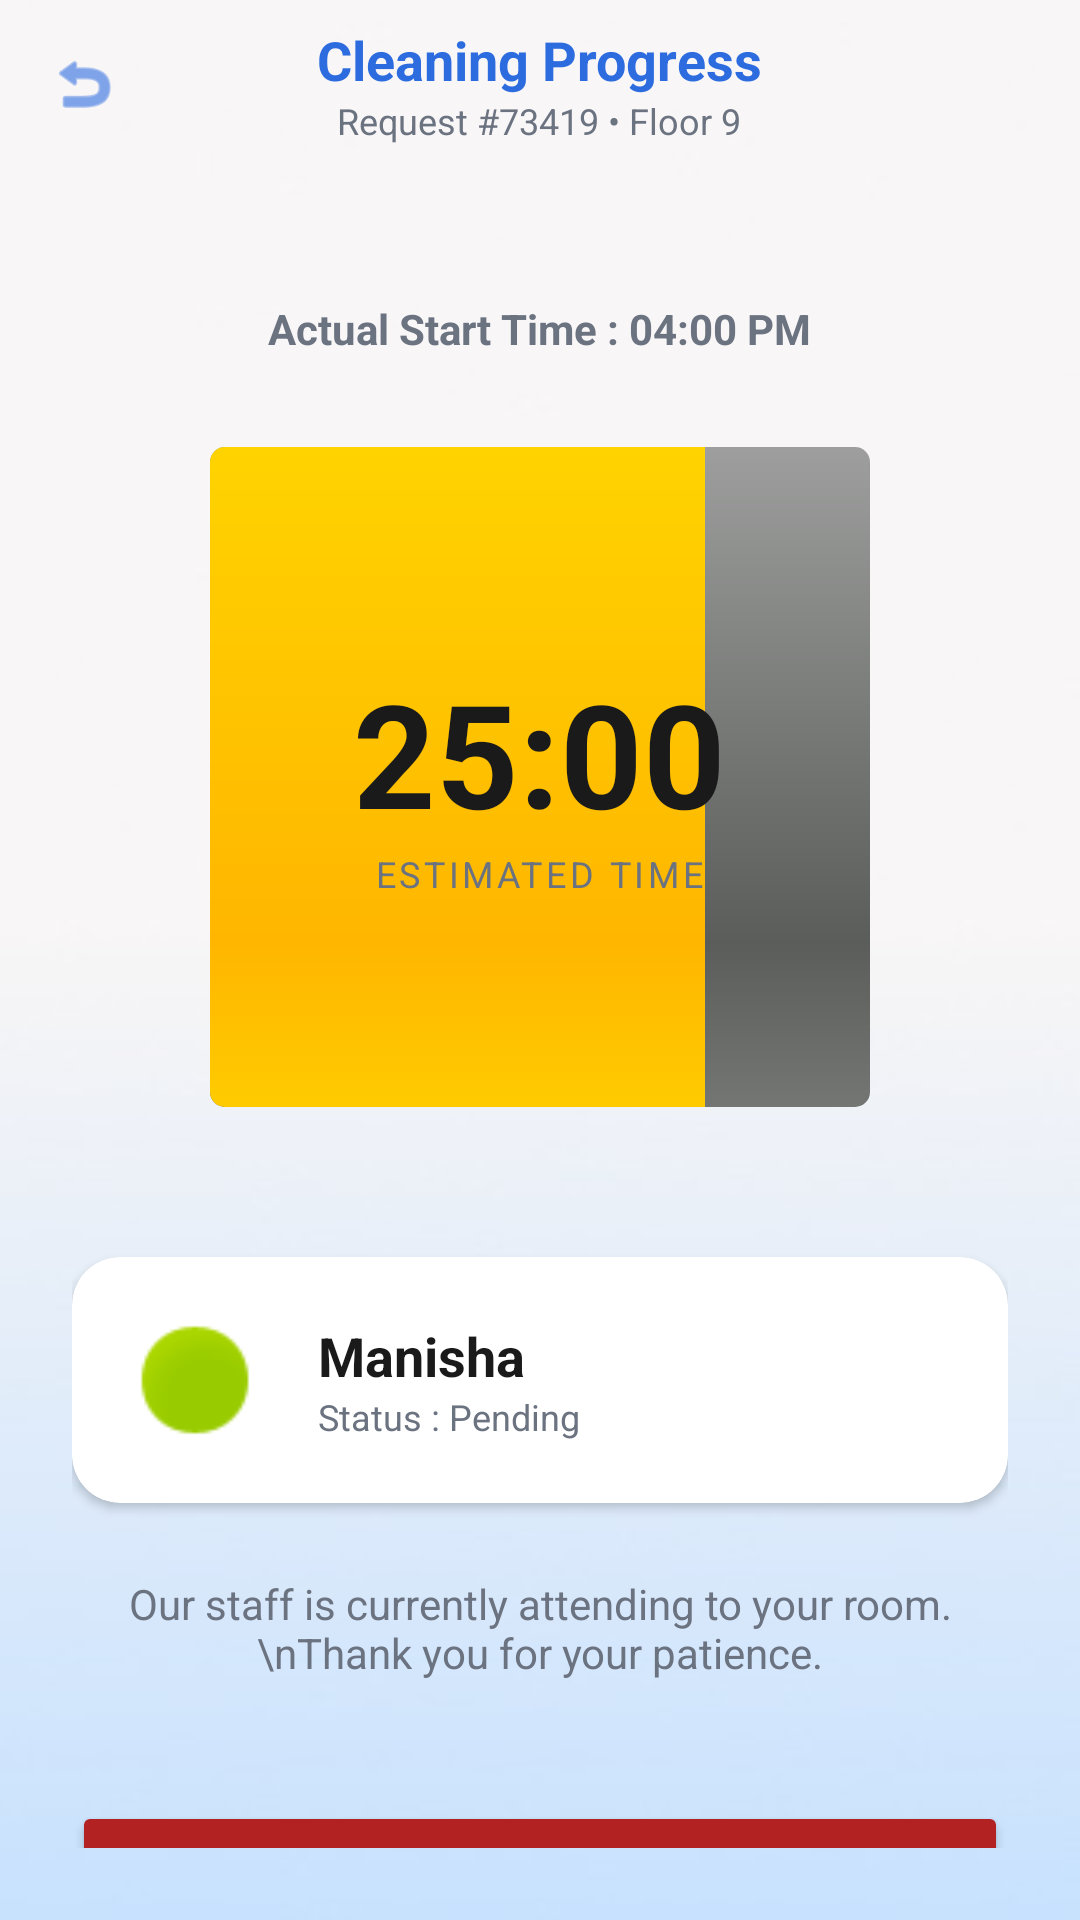

Where to tap for icons on this 1080*1920 app screen, as point (x, y):
presence online: point (195, 1380)
revert: point (85, 84)
